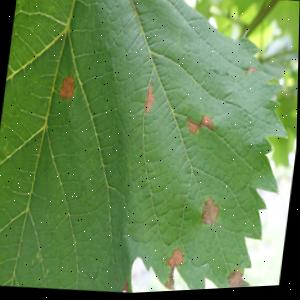Folha: (0, 0, 300, 300)
Fungo: (162, 245, 185, 292), (183, 113, 216, 139), (199, 196, 220, 228), (56, 70, 76, 103), (226, 266, 247, 291), (166, 245, 185, 270), (143, 83, 155, 115), (183, 117, 202, 137), (198, 113, 216, 133), (241, 65, 257, 77)
